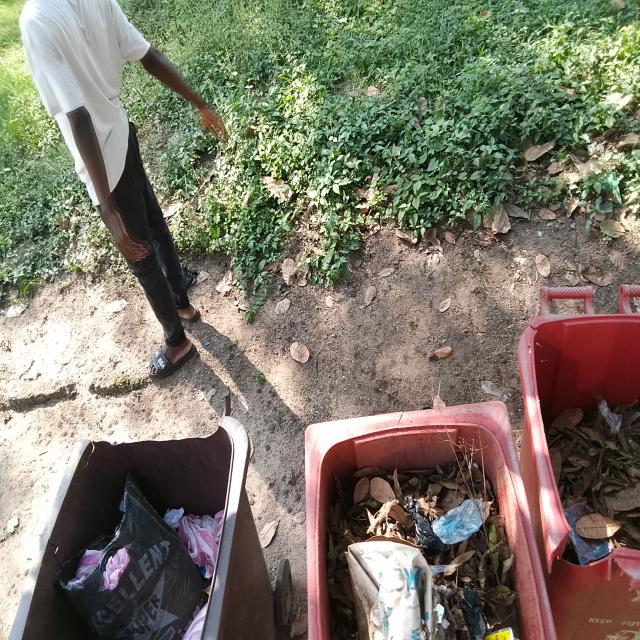half-full: (303, 403, 549, 640), (19, 418, 241, 640), (520, 305, 640, 608)
